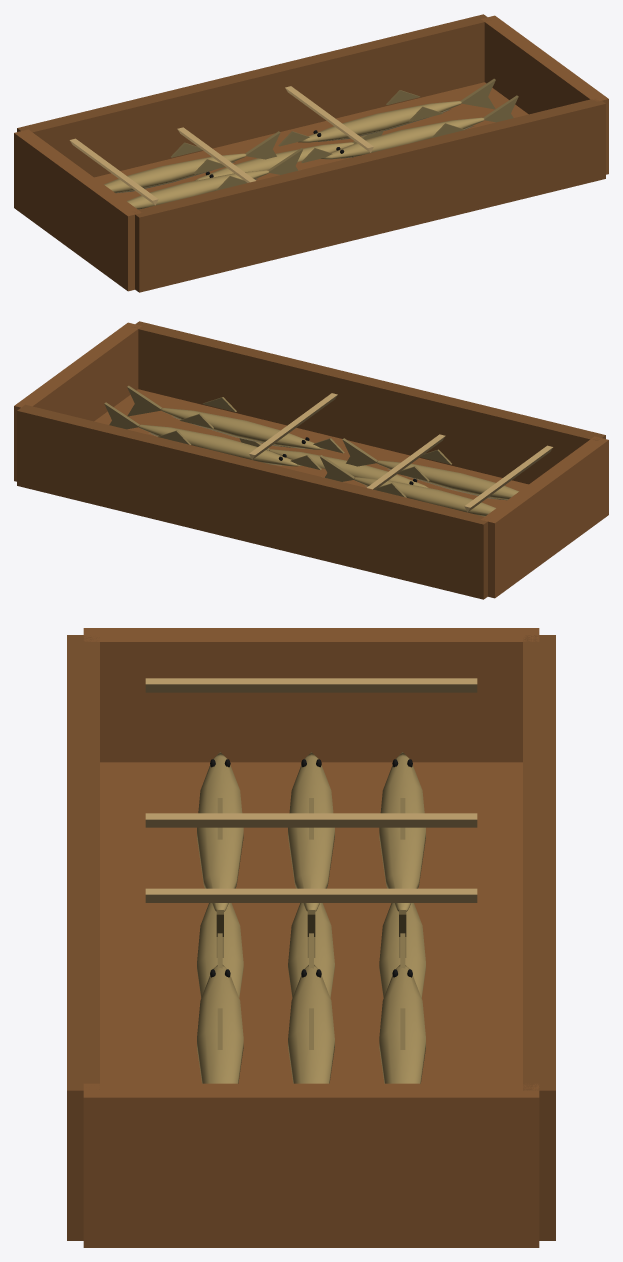
Rendered from Proc_DriedFish.fbx.
3 views of the same model, one above another, from view 1: azimuth 30°, elevation 25°; view 2: azimuth 150°, elevation 25°; view 3: azimuth 270°, elevation 25° (orthographic). The views are drawn at different scales.
Visible parts, largest first — view 1: Proc_DriedFish__Stack, Proc_DriedFish; view 2: Proc_DriedFish__Stack, Proc_DriedFish; view 3: Proc_DriedFish__Stack, Proc_DriedFish.
Boxes of the visible parts, x1=… form: Proc_DriedFish__Stack: x1=14, y1=14, x2=608, y2=292; Proc_DriedFish: x1=177, y1=127, x2=383, y2=182; Proc_DriedFish__Stack: x1=14, y1=321, x2=608, y2=599; Proc_DriedFish: x1=239, y1=434, x2=445, y2=489; Proc_DriedFish__Stack: x1=67, y1=628, x2=555, y2=1247; Proc_DriedFish: x1=145, y1=813, x2=477, y2=997.
Size of the model in its own units: 0.268 by 0.04 by 0.118.
